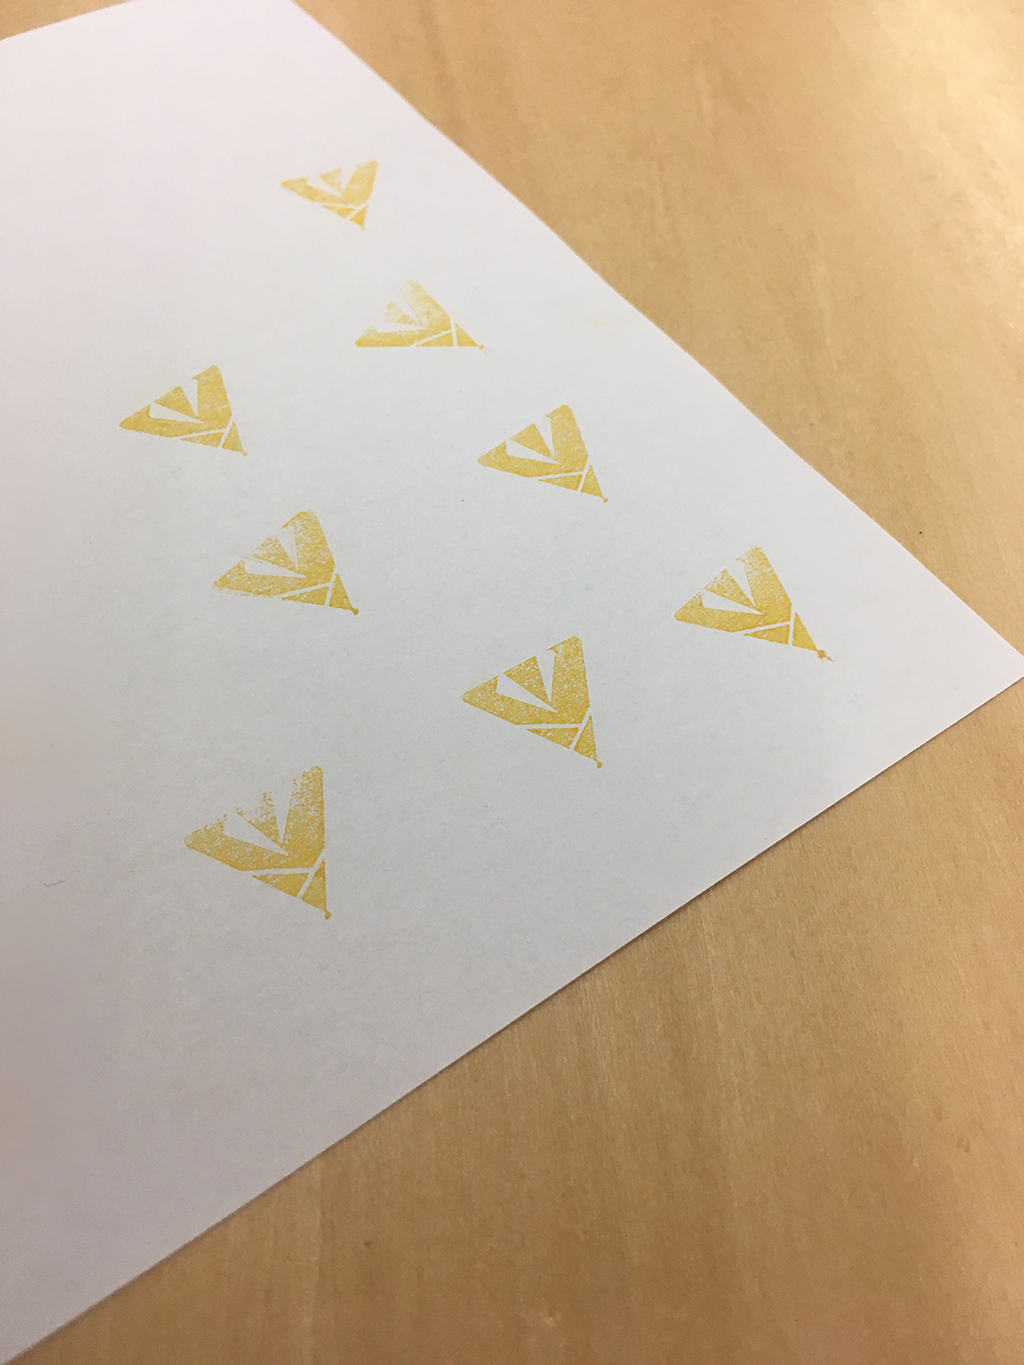tent: (173, 751, 358, 939), (436, 620, 621, 783), (662, 527, 851, 681), (195, 498, 375, 631), (463, 386, 628, 517), (105, 354, 266, 470), (341, 270, 500, 366), (267, 154, 406, 247)
